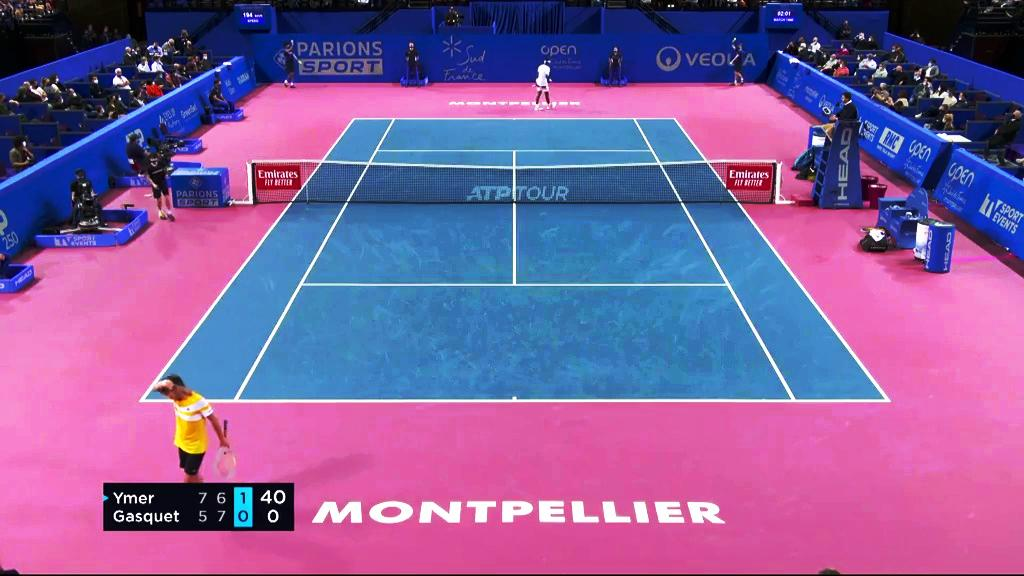tennis-court: (139, 118, 892, 402)
